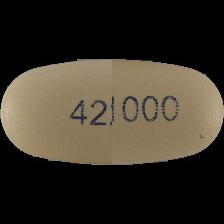0310-6125: (0, 0, 224, 224)
